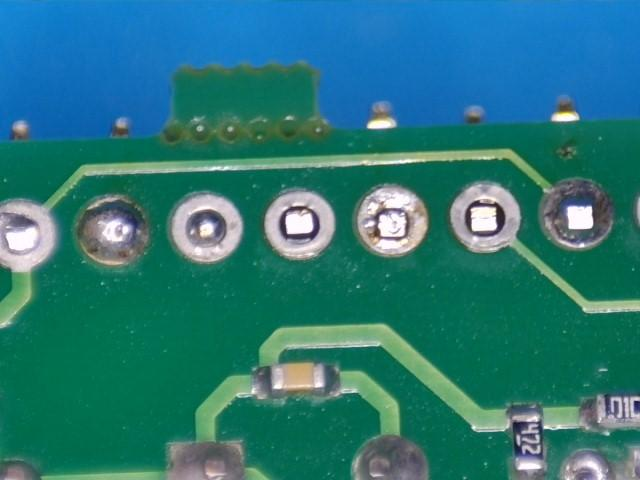Dry_joint: (172, 195, 242, 262), (78, 199, 148, 265), (1, 202, 53, 270)
